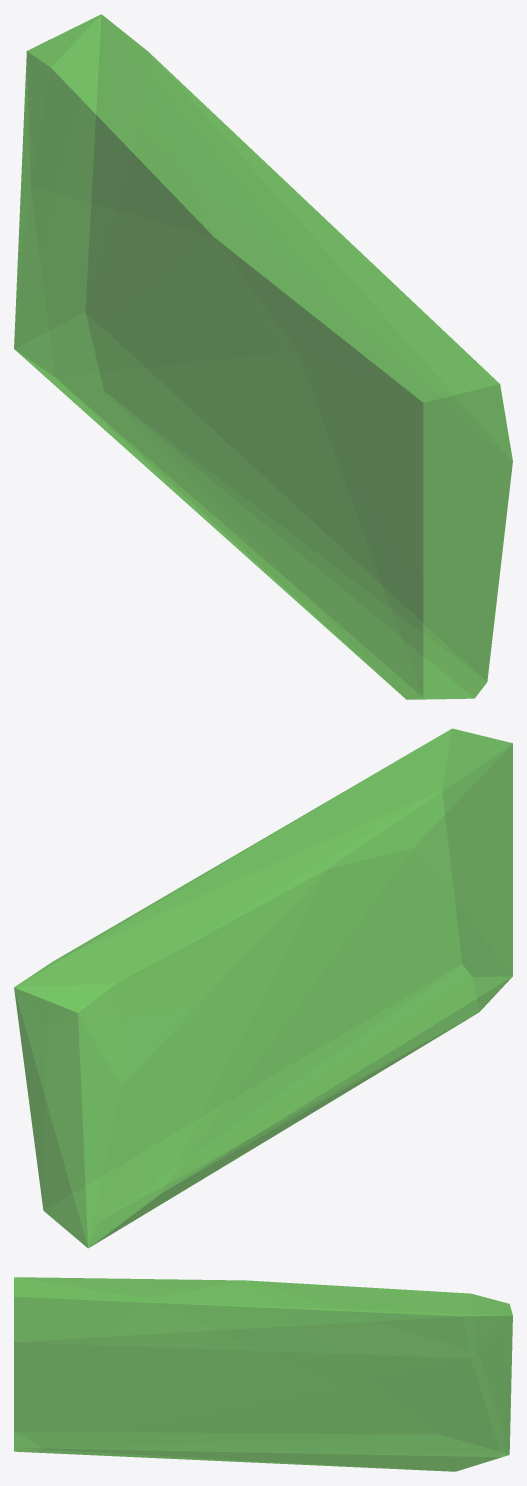
3 views of the same model, one above another, from view 1: azimuth 30°, elevation 25°; view 2: azimuth 150°, elevation 25°; view 3: azimuth 270°, elevation 25° (orthographic). The views are drawn at different scales.
Parts seen in each view (by area): view 1: Shape_IndexedFaceSet.014_Shape_IndexedFaceSet.10724; view 2: Shape_IndexedFaceSet.014_Shape_IndexedFaceSet.10724; view 3: Shape_IndexedFaceSet.014_Shape_IndexedFaceSet.10724.
Part boxes in pixels (x1=…): Shape_IndexedFaceSet.014_Shape_IndexedFaceSet.10724: x1=14, y1=14, x2=512, y2=699; Shape_IndexedFaceSet.014_Shape_IndexedFaceSet.10724: x1=14, y1=728, x2=512, y2=1248; Shape_IndexedFaceSet.014_Shape_IndexedFaceSet.10724: x1=14, y1=1277, x2=512, y2=1471.
Size of the model in its own units: 0.0399 by 0.0798 by 0.2128.
